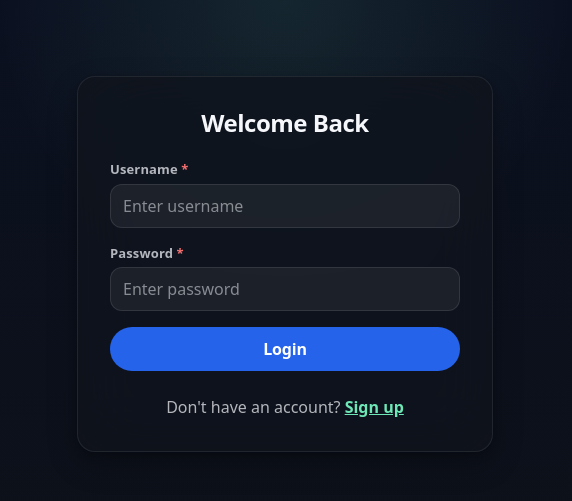
Test: Login Component › uses default error message when API does not return error
The image size is (572, 501).
Type "testuser" into the field labelled "Username *".
click(285, 206); type("testuser")  # box [123, 186, 447, 226]
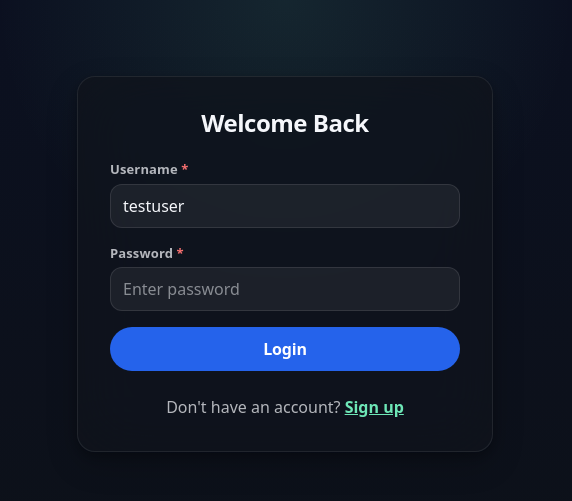
Type "wrongpassword" into the password field labelled "Password *".
click(285, 289); type("wrongpassword")  # box [123, 269, 447, 309]
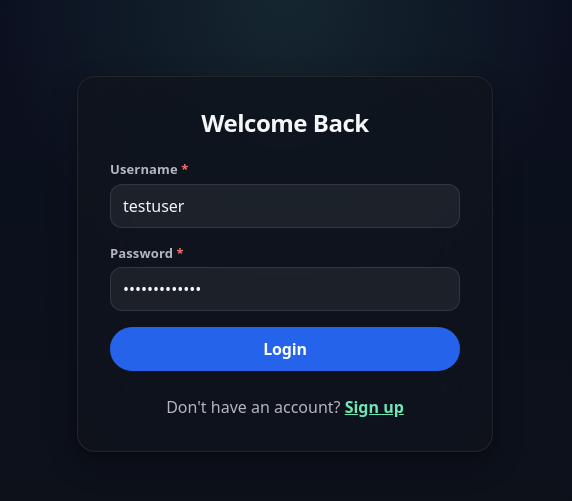
Click the button "Login".
click(285, 349)  # box [110, 327, 460, 371]
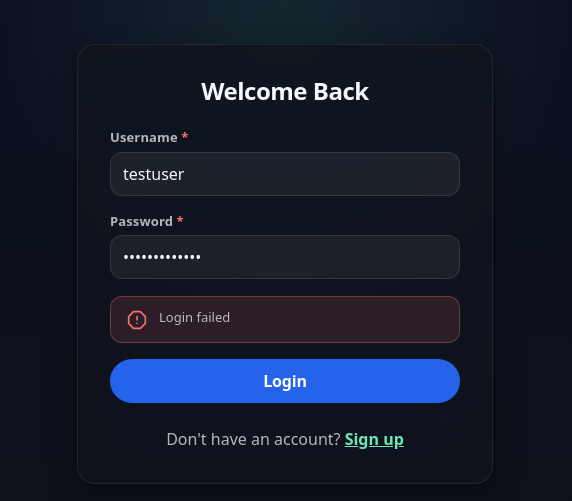
Expected: the message reads "Login failed", [159, 308, 230, 326]
